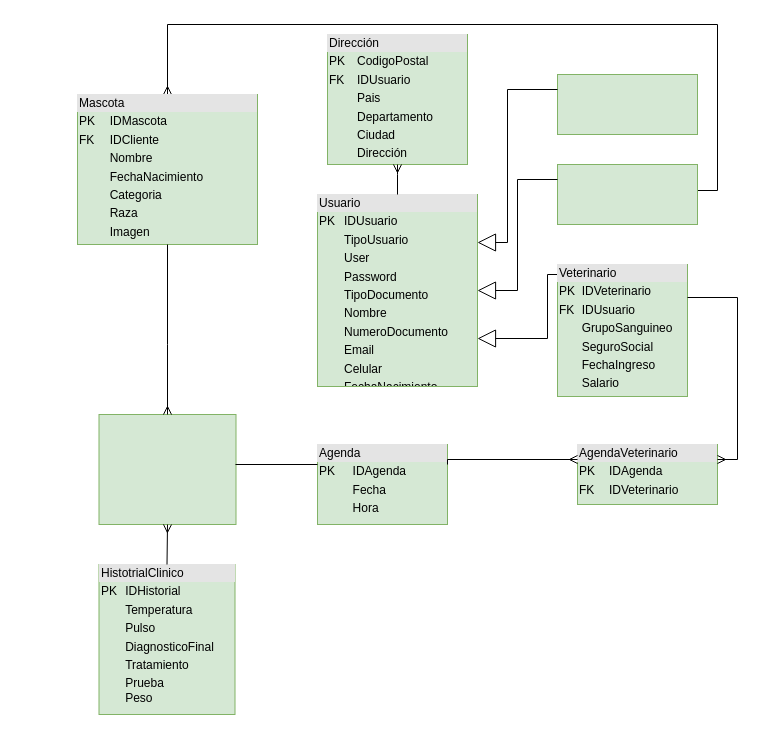
Image size: 763x732. Some labels were removed from this diagram. The shapes that lost their labels are listed below. From the top down, each one's centre as x and y in pixels, then its label:
At pixel 627 104: "Administrador PK RUT FK IDUsuario".
At pixel 627 194: "Cliente PK IDCliente FK IDUsuario".
At pixel 167 469: "Cita PK IDCita FK IDMascota FK IDAgenda FK IDHistorial Estado".
